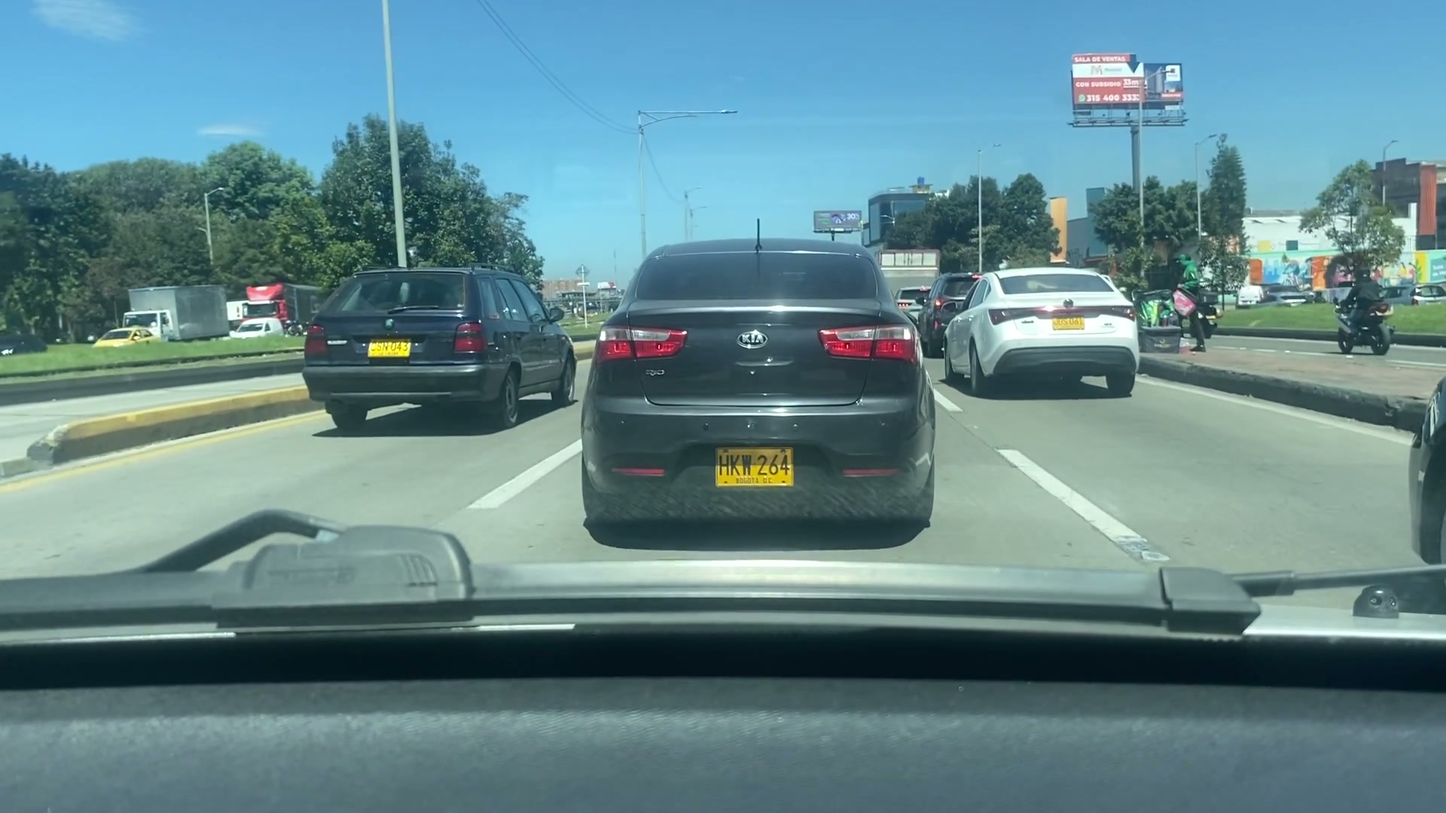bus: (233, 315, 284, 345)
car: (580, 238, 940, 532), (302, 265, 576, 418), (942, 268, 1145, 389), (925, 270, 991, 352), (94, 326, 161, 352), (889, 285, 938, 320)
motorcycle: (1334, 297, 1398, 357)
truck: (123, 287, 230, 345), (249, 280, 324, 332), (871, 249, 942, 301)
